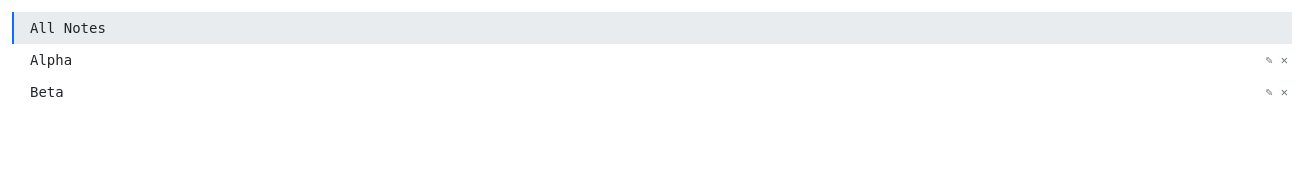
Test case: FolderTree (TASK-017) › rename flow › shows inline rename input when rename button is clicked
Step 1. Click the button with test id "folder-rename-button-folder-1" → (1269, 60), box [1262,48,1277,72]
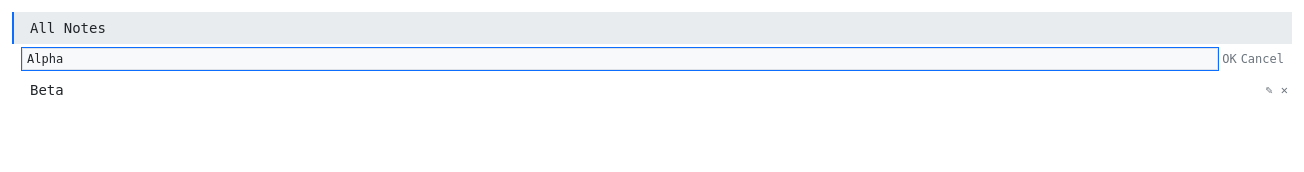
Result: the field with test id "folder-rename-input-folder-1" is shown at [22,48,1218,70]
